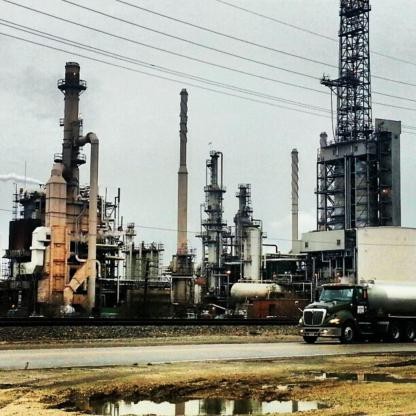Truck: (294, 284, 416, 344)
